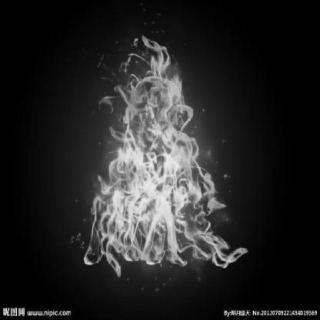Fire: (86, 35, 246, 277)
